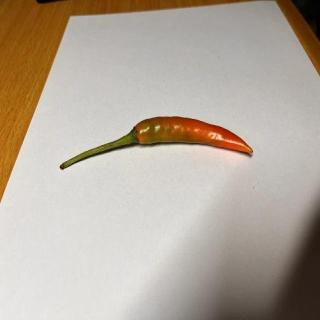Cabai Merah: (59, 115, 255, 171)
